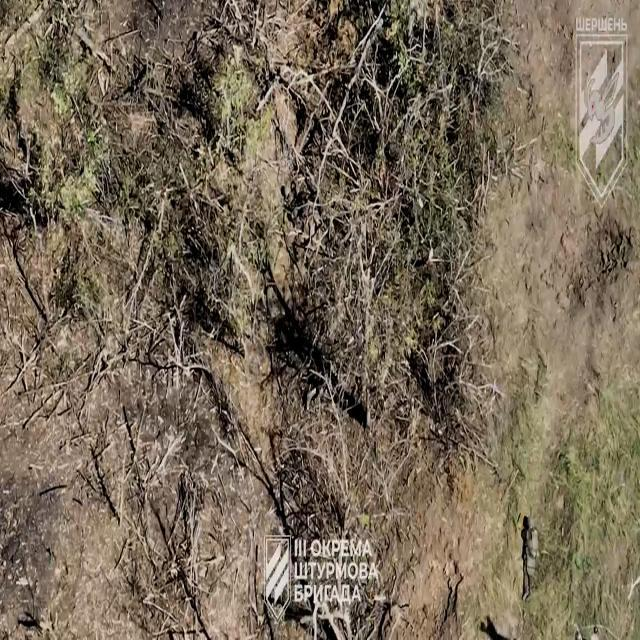MIL_Pax: (521, 516, 538, 599)
